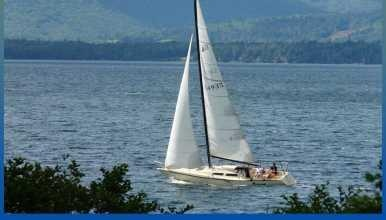fanchuan: (161, 1, 300, 189)
